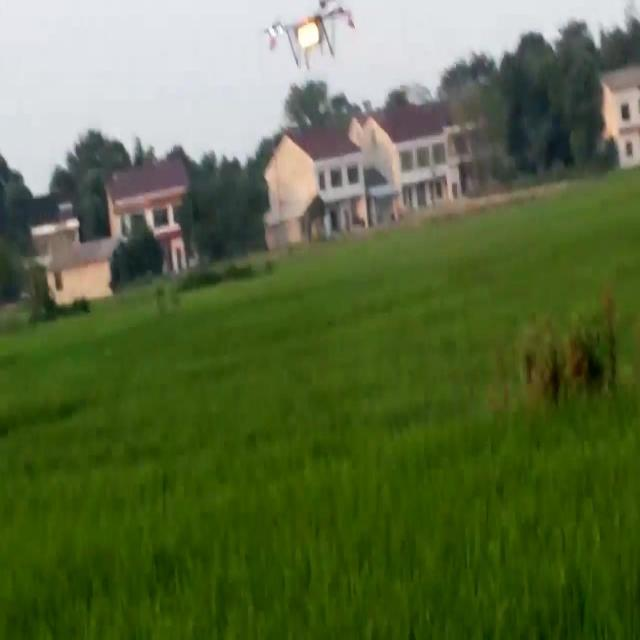UAV: (264, 0, 356, 71)
